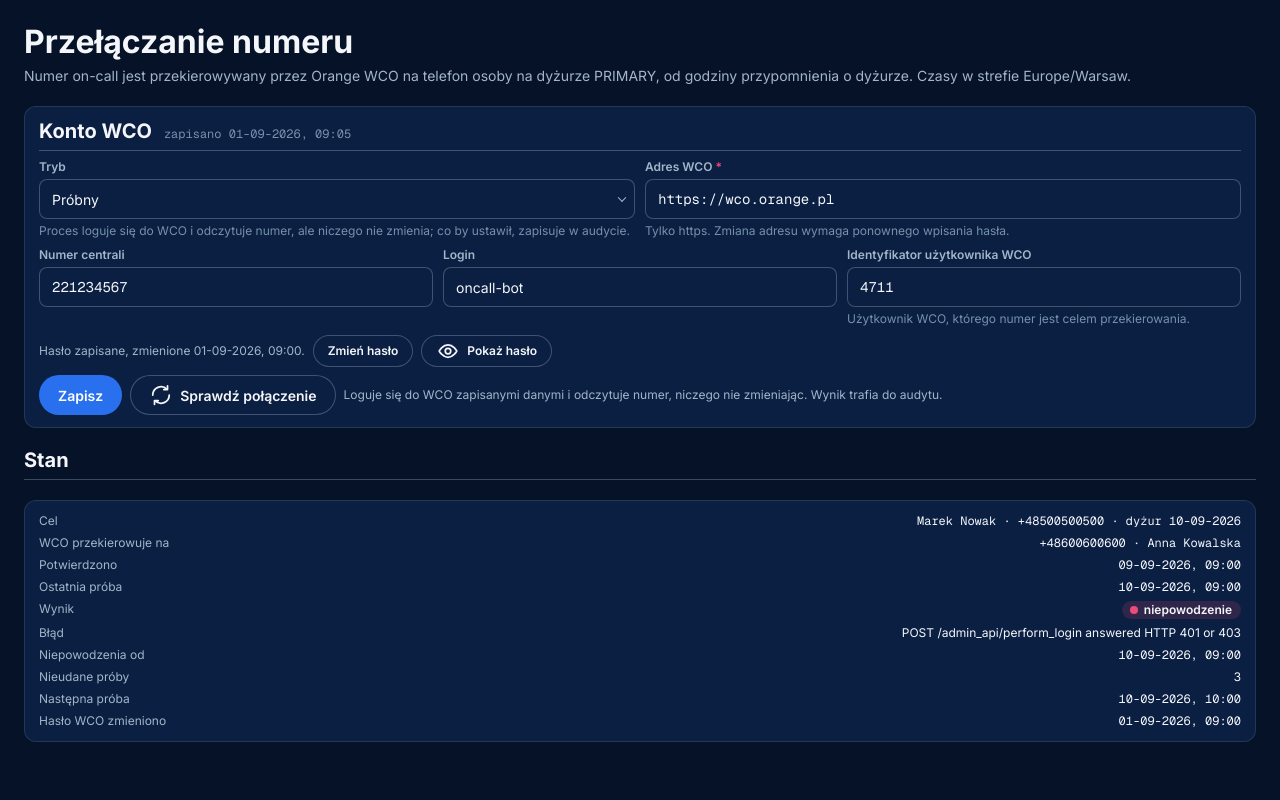
ForwardingPanel › reports a connection check: {"outcome":"password_expired","number":null,"detail":null}
Click the button "Sprawdź połączenie".
click(233, 395)  # box 130,375 -> 336,415
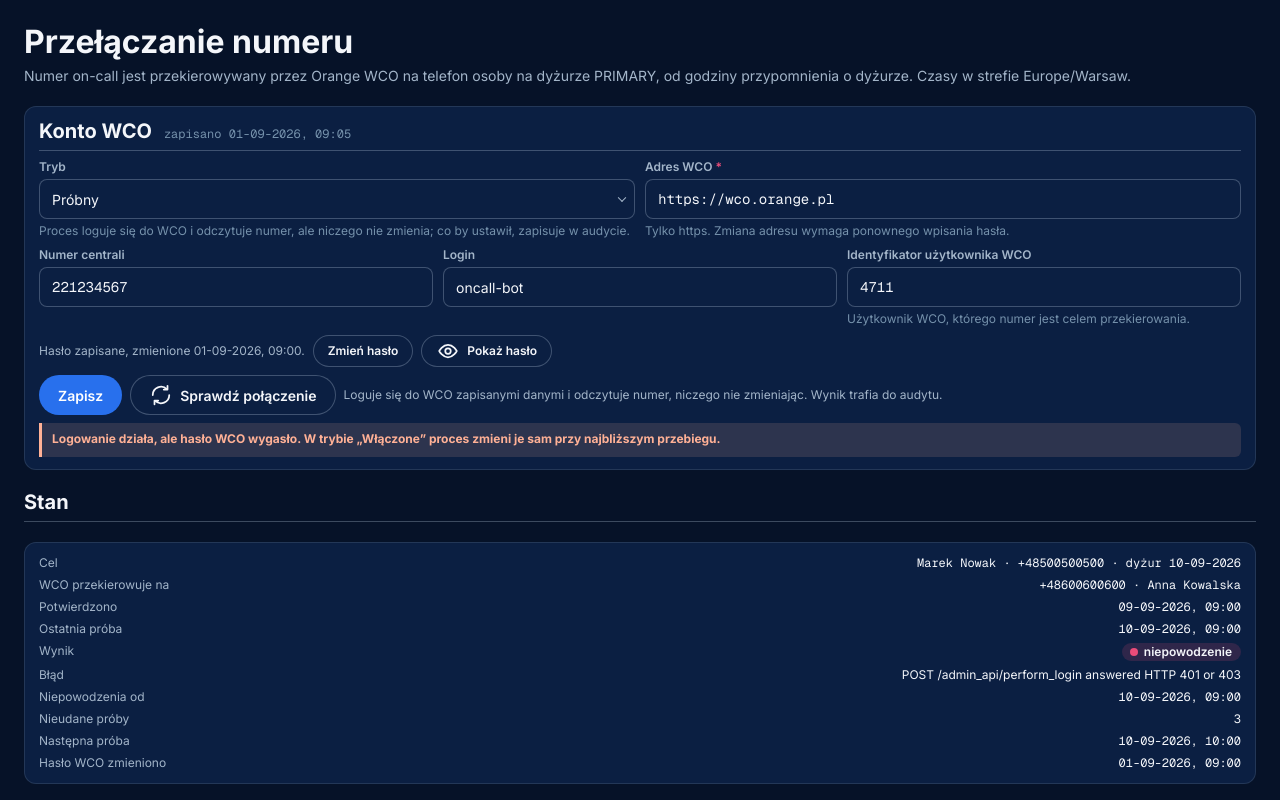
Check: the message shows "Logowanie działa, ale hasło WCO wygasło.", box 52,431 -> 721,446
